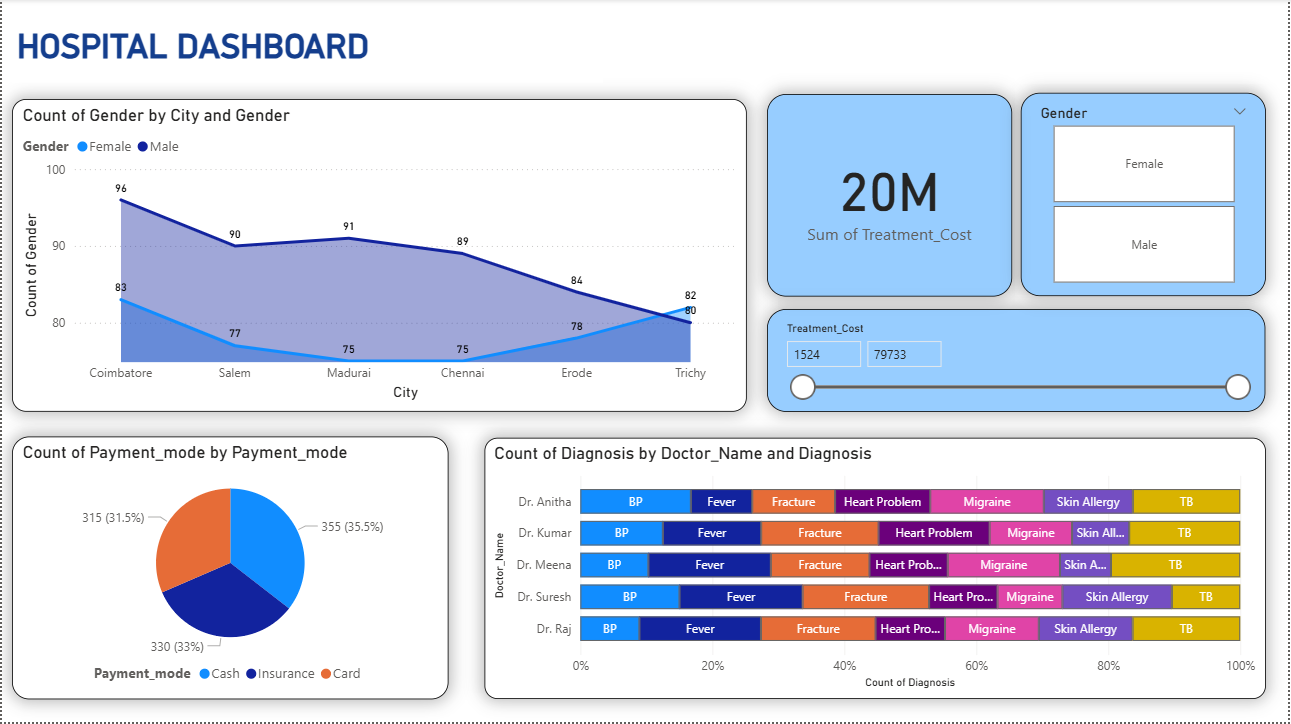

This screenshot's page, from the dashboard's own definition file:
{"tool":"powerbi","page":{"name":"Page 1","canvas":[1280,720],"ordinal":0},"visuals":[{"type":"areaChart","fields":{"Category":["Hospital_Data_1000.City"],"Series":["Hospital_Data_1000.Gender"],"Y":["CountNonNull(Hospital_Data_1000.Gender)"]},"box":[10,99.5,731.4,311],"z":0},{"type":"card","fields":{"Values":["Sum(Hospital_Data_1000.Treatment_Cost)"]},"box":[761.3,94.5,243.8,201.5],"z":1000},{"type":"pieChart","fields":{"Category":["Hospital_Data_1000.Payment_mode"],"Y":["CountNonNull(Hospital_Data_1000.Payment_mode)"]},"box":[26.1,435.4,418,261.2],"z":2000},{"type":"hundredPercentStackedBarChart","fields":{"Category":["Hospital_Data_1000.Doctor_Name"],"Y":["CountNonNull(Hospital_Data_1000.Diagnosis)"],"Series":["Hospital_Data_1000.Diagnosis"]},"box":[480.2,436.6,777.5,260],"z":3000},{"type":"slicer","fields":{"Values":["Hospital_Data_1000.Treatment_Cost"]},"box":[761.3,308.5,496.3,102],"z":4000},{"type":"slicer","fields":{"Values":["Hospital_Data_1000.Gender"]},"box":[1013.8,93.3,243.8,202.8],"z":5000},{"type":"textbox","box":[0,22.4,588.4,61],"z":6000}]}

Visuals, with their boxes in screenshot pixels (x1, y1, x2, y2), scaled from the page's 1280x720 canvas onto the 1291x724 screenshot:
areaChart - Hospital_Data_1000.City x Hospital_Data_1000.Gender: {"left": 10, "top": 100, "right": 748, "bottom": 413}
card - Sum(Hospital_Data_1000.Treatment_Cost): {"left": 768, "top": 95, "right": 1014, "bottom": 298}
pieChart - Hospital_Data_1000.Payment_mode x CountNonNull(Hospital_Data_1000.Payment_mode): {"left": 26, "top": 438, "right": 448, "bottom": 700}
hundredPercentStackedBarChart - Hospital_Data_1000.Doctor_Name x CountNonNull(Hospital_Data_1000.Diagnosis): {"left": 484, "top": 439, "right": 1269, "bottom": 700}
slicer - Hospital_Data_1000.Treatment_Cost: {"left": 768, "top": 310, "right": 1268, "bottom": 413}
slicer - Hospital_Data_1000.Gender: {"left": 1023, "top": 94, "right": 1268, "bottom": 298}
textbox: {"left": 0, "top": 23, "right": 593, "bottom": 84}
